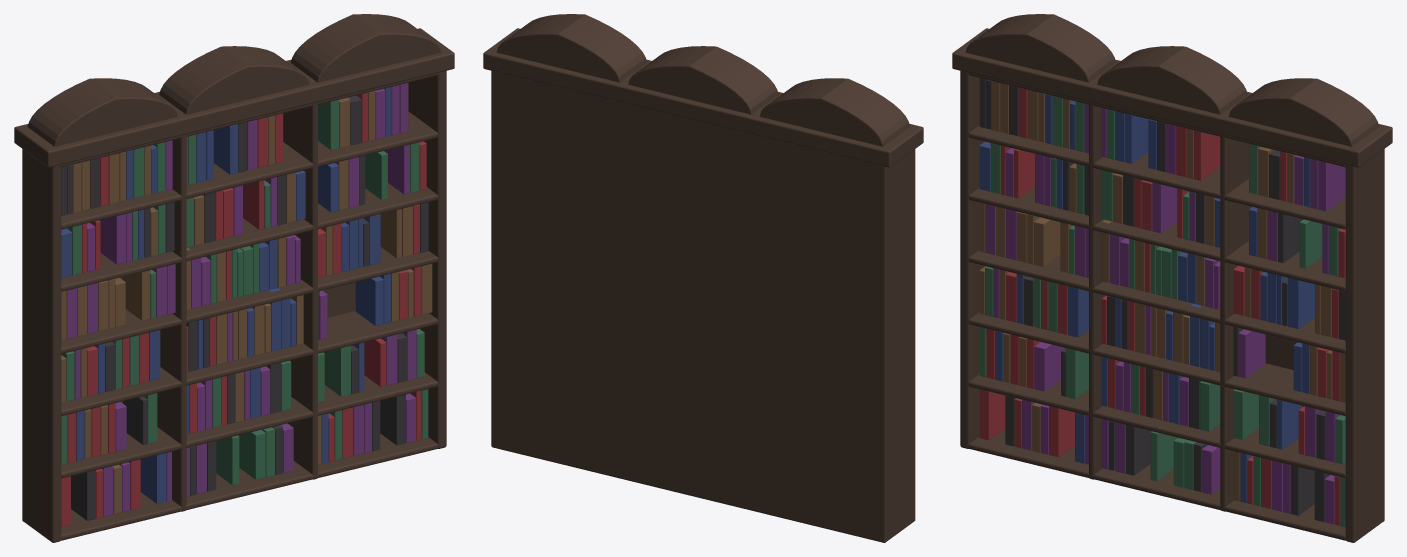
The model's file is wall_bookcase_arched.glb.
The picture shows the model from 3 angles, left to right: view 1: azimuth 30°, elevation 25°; view 2: azimuth 150°, elevation 25°; view 3: azimuth 330°, elevation 25°; orthographic projection.
Visible parts, largest first — view 1: GD_wall_bookcase_arched__m0, GD_wall_bookcase_arched__m4, GD_wall_bookcase_arched__m2, GD_wall_bookcase_arched__m6, GD_wall_bookcase_arched__m1, GD_wall_bookcase_arched__m5, GD_wall_bookcase_arched__m3; view 2: GD_wall_bookcase_arched__m0; view 3: GD_wall_bookcase_arched__m0, GD_wall_bookcase_arched__m4, GD_wall_bookcase_arched__m2, GD_wall_bookcase_arched__m6, GD_wall_bookcase_arched__m5, GD_wall_bookcase_arched__m1, GD_wall_bookcase_arched__m3.
Part boxes in pixels (x1=…): GD_wall_bookcase_arched__m0: x1=14, y1=14, x2=454, y2=542; GD_wall_bookcase_arched__m4: x1=66, y1=83, x2=416, y2=516; GD_wall_bookcase_arched__m2: x1=61, y1=91, x2=432, y2=514; GD_wall_bookcase_arched__m6: x1=61, y1=99, x2=428, y2=485; GD_wall_bookcase_arched__m1: x1=61, y1=87, x2=391, y2=503; GD_wall_bookcase_arched__m5: x1=61, y1=92, x2=426, y2=527; GD_wall_bookcase_arched__m3: x1=61, y1=95, x2=428, y2=520; GD_wall_bookcase_arched__m0: x1=483, y1=14, x2=923, y2=542; GD_wall_bookcase_arched__m0: x1=952, y1=14, x2=1392, y2=542; GD_wall_bookcase_arched__m4: x1=985, y1=103, x2=1345, y2=524; GD_wall_bookcase_arched__m2: x1=979, y1=81, x2=1345, y2=501; GD_wall_bookcase_arched__m6: x1=979, y1=96, x2=1345, y2=527; GD_wall_bookcase_arched__m5: x1=979, y1=87, x2=1345, y2=525; GD_wall_bookcase_arched__m1: x1=979, y1=94, x2=1314, y2=502; GD_wall_bookcase_arched__m3: x1=979, y1=78, x2=1345, y2=521.
Size of the model in its own units: 2.58 by 2.59 by 0.38.
